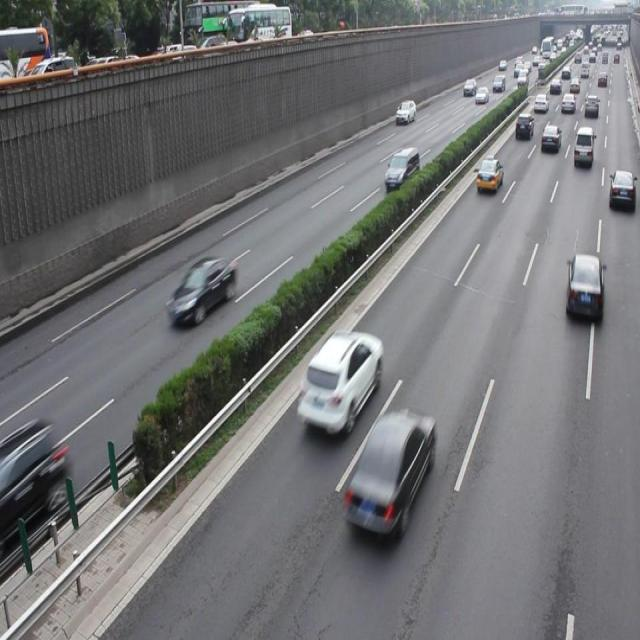car: (344, 408, 436, 536), (295, 326, 382, 436), (0, 417, 72, 548), (166, 254, 237, 327), (564, 251, 602, 320), (607, 167, 640, 211), (474, 157, 502, 196)
truck: (384, 146, 419, 190), (572, 125, 592, 167)
